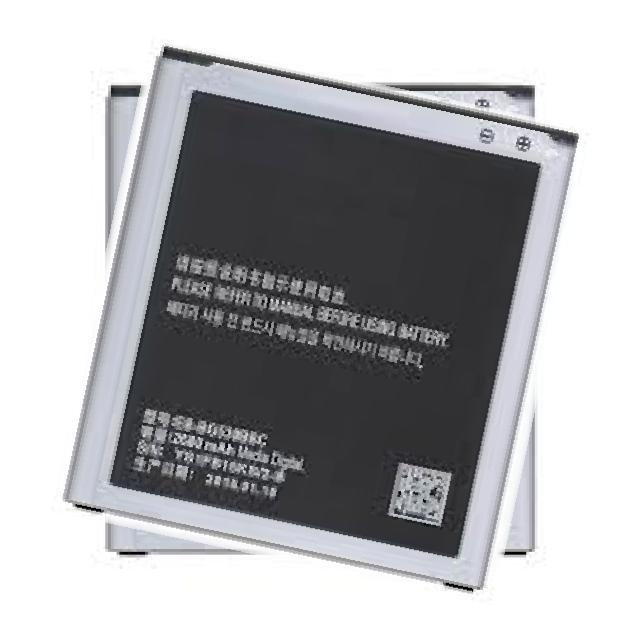Battery: (60, 42, 584, 595)
